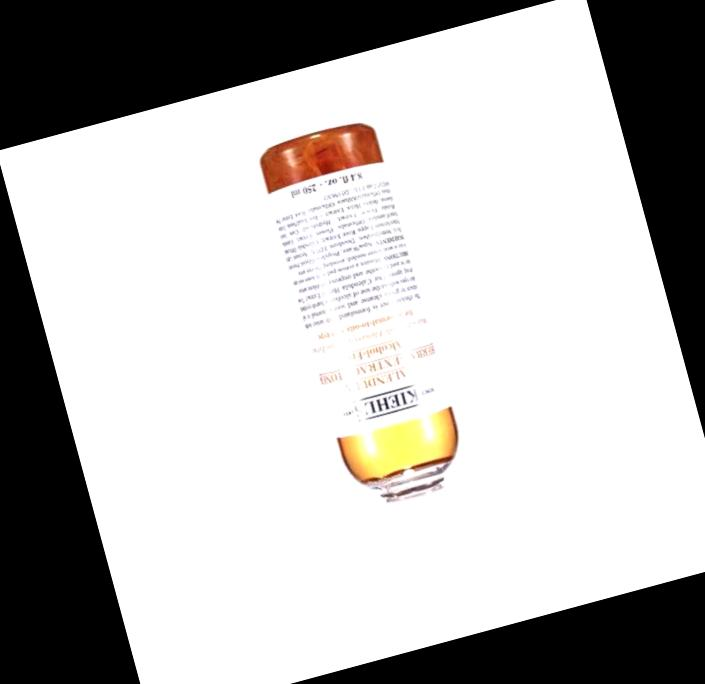cosmetic: (256, 115, 490, 588)
